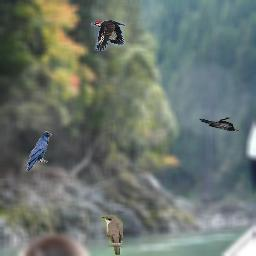Crow: (25, 131, 52, 171), (199, 117, 239, 131)
Cuckoo: (101, 215, 123, 255)
Woodpecker: (91, 20, 126, 51)
